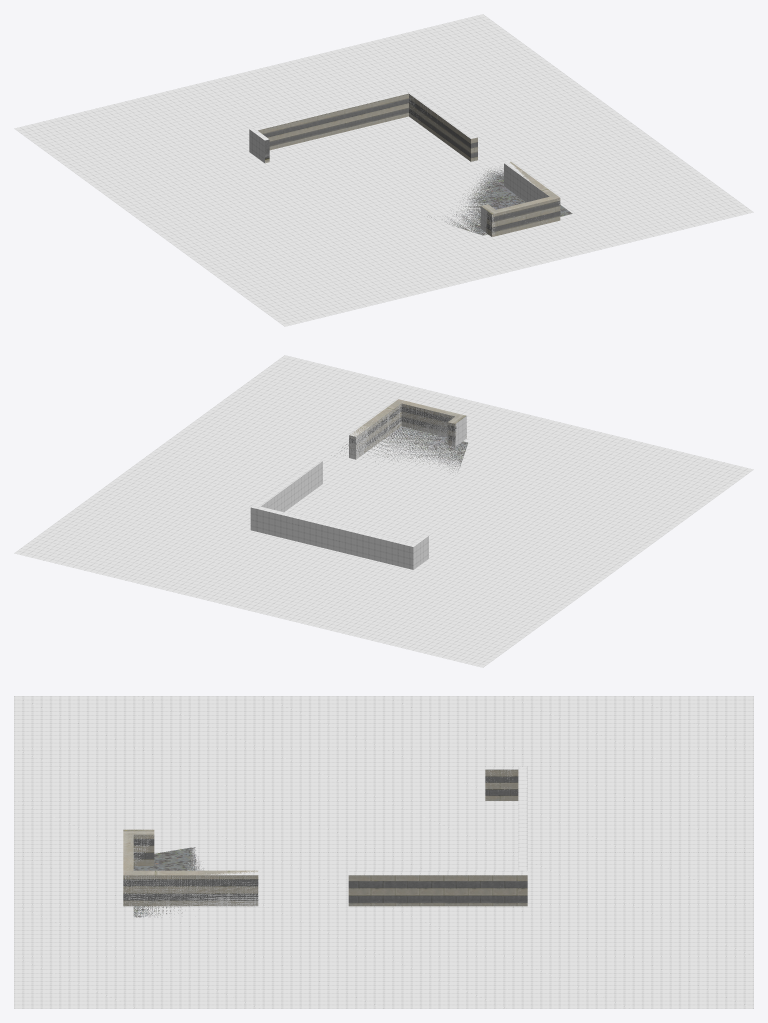
Rendered from WallFloor.fbx.
3 renders of one model, top to bottom at view 1: azimuth 30°, elevation 25°; view 2: azimuth 150°, elevation 25°; view 3: azimuth 270°, elevation 25°, orthographic. The views are drawn at different scales.
Parts seen in each view (by area): view 1: Floor, Cube.001, Wall, Cube, Plane; view 2: Floor, Wall, Cube, Plane; view 3: Floor, Cube.001, Cube, Wall, Plane.
Part boxes in pixels (<box>): Floor: <box>14,14,753,326</box>; Cube.001: <box>258,93,477,163</box>; Wall: <box>249,89,559,236</box>; Cube: <box>481,161,560,236</box>; Plane: <box>427,166,572,235</box>; Floor: <box>14,355,753,667</box>; Wall: <box>250,403,466,569</box>; Cube: <box>349,399,466,459</box>; Plane: <box>331,426,467,473</box>; Floor: <box>14,696,753,1008</box>; Cube.001: <box>348,769,527,906</box>; Cube: <box>123,829,258,906</box>; Wall: <box>123,766,527,906</box>; Plane: <box>133,847,203,917</box>.
Bounding box in the file's own units: 8000 × 8000 × 382.
Materials: 3 (3 with a texture image).
